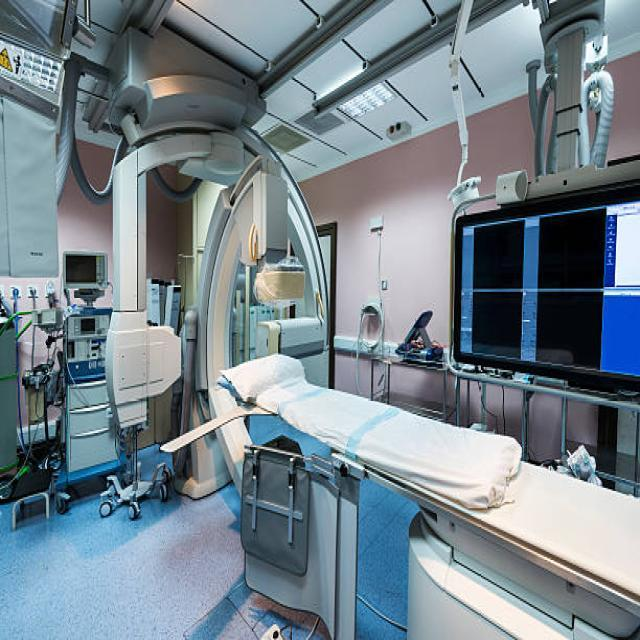bed: (209, 350, 639, 638)
